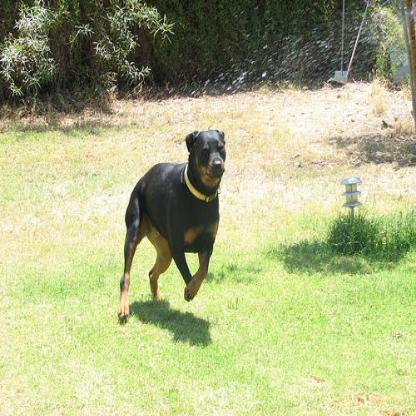Rottweiler: (115, 125, 226, 325)
